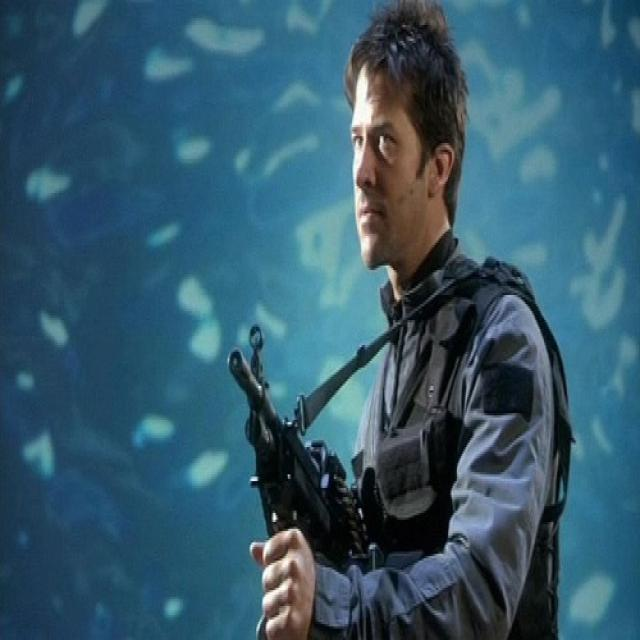rifle: (227, 318, 371, 572)
